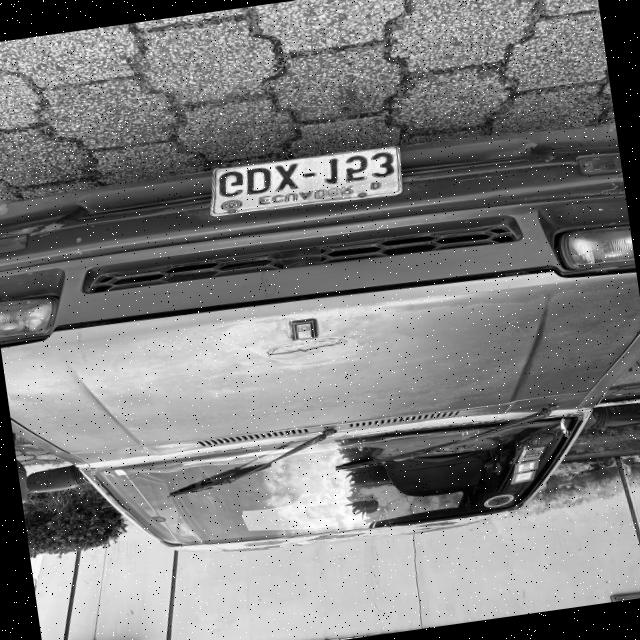Placa: (211, 146, 402, 215)
